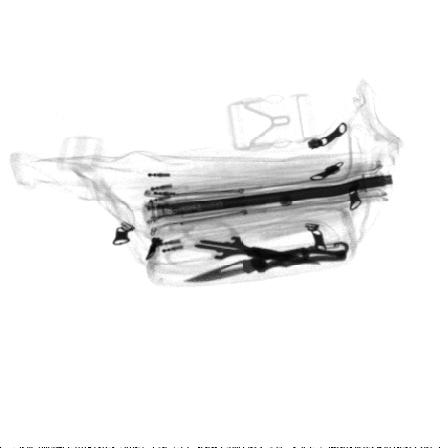Knife: (184, 240, 349, 282)
Scissors: (163, 217, 322, 266)
